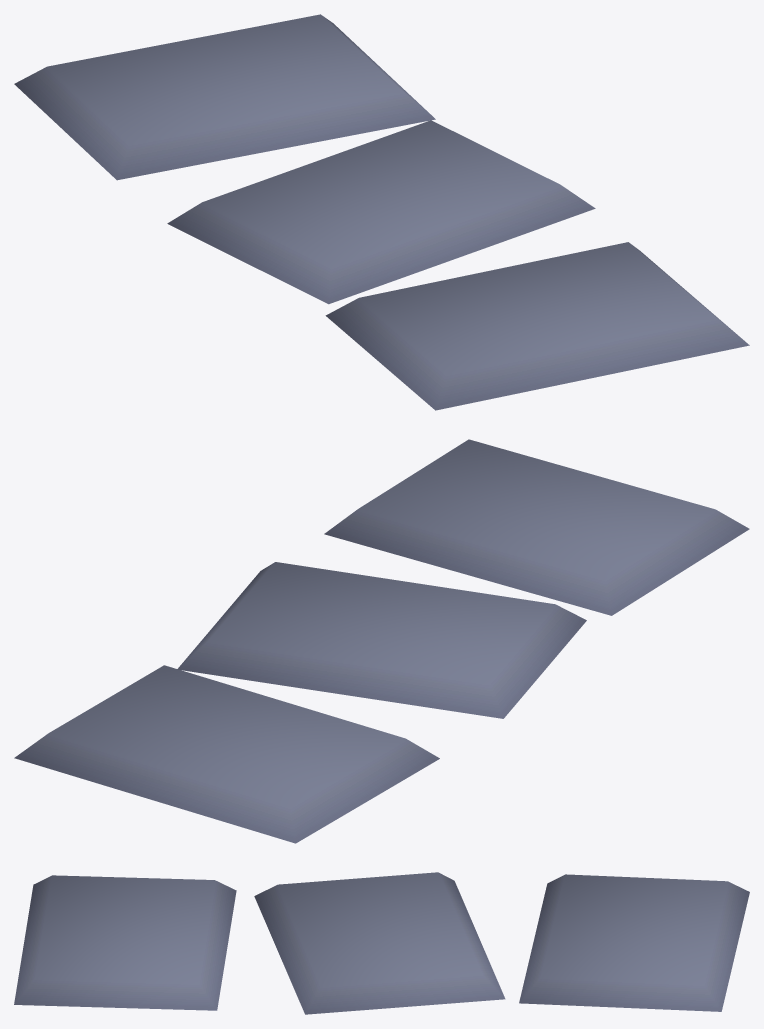
Rendered from path-stones-messy.glb.
The picture shows the model from 3 angles, top to bottom: view 1: azimuth 30°, elevation 25°; view 2: azimuth 150°, elevation 25°; view 3: azimuth 270°, elevation 25°; orthographic projection. The views are drawn at different scales.
Visible parts, largest first — view 1: path-stones-messy; view 2: path-stones-messy; view 3: path-stones-messy.
Part boxes in pixels (<box>): path-stones-messy: <box>14,14,749,410</box>; path-stones-messy: <box>14,439,749,843</box>; path-stones-messy: <box>14,872,749,1014</box>.
Bounding box in the file's own units: 0.1556 × 0.01 × 0.3614.
1 material, 1 textured.
